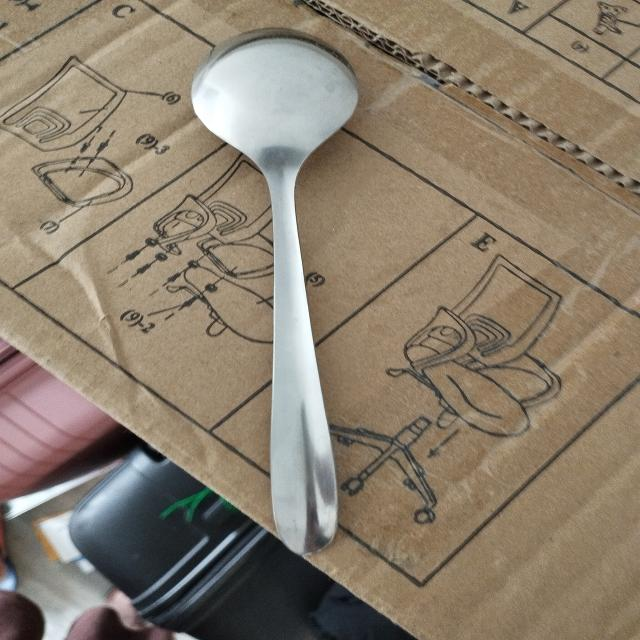Spoon: (192, 26, 406, 560)
